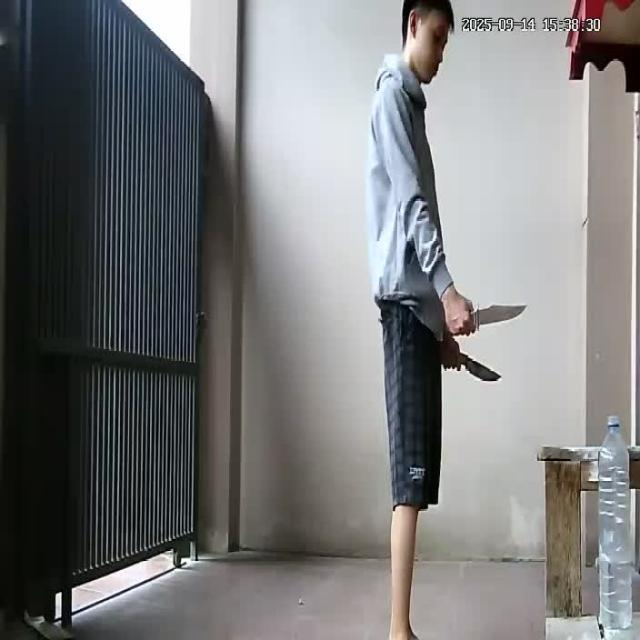senjata_tajam: (469, 302, 528, 330), (459, 354, 503, 386)
